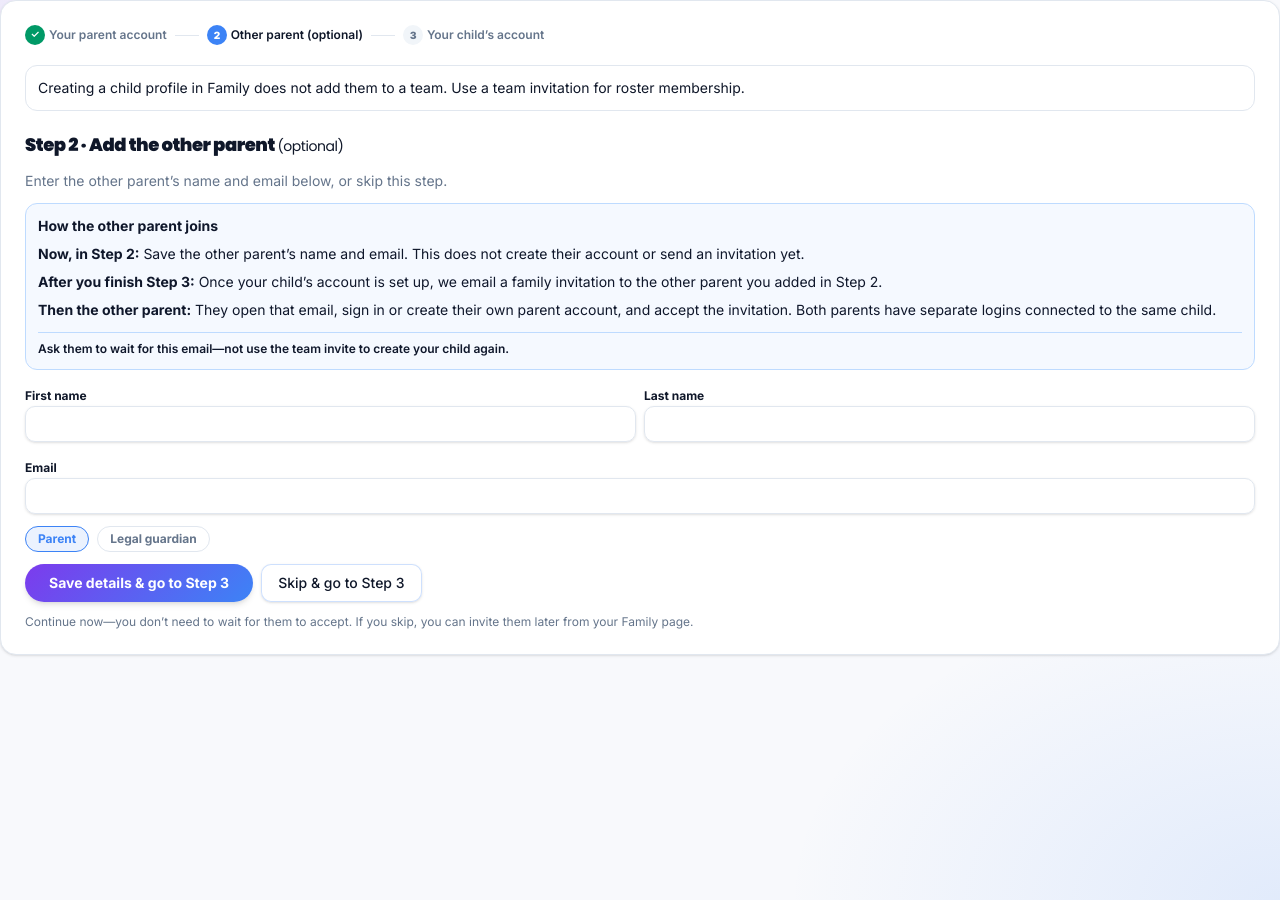
FamilySetup › blocks selecting a child if the adult session is no longer verified
Click the button with test id "btn-coparent-skip". click: (341, 583)
box: [261,564,422,602]
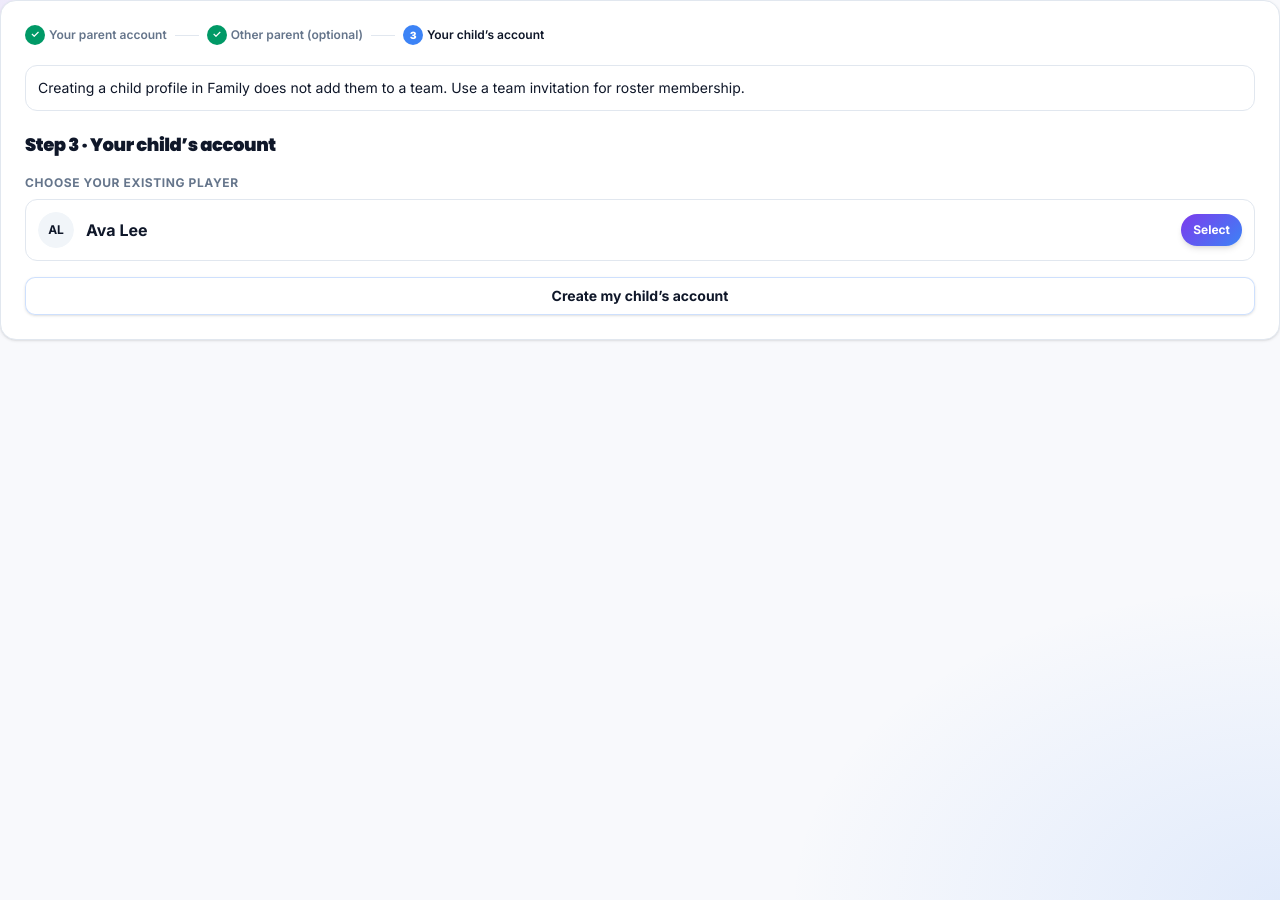
Click the button with test id "btn-select-child-existing". click: (1212, 230)
box: [1181,214,1242,246]
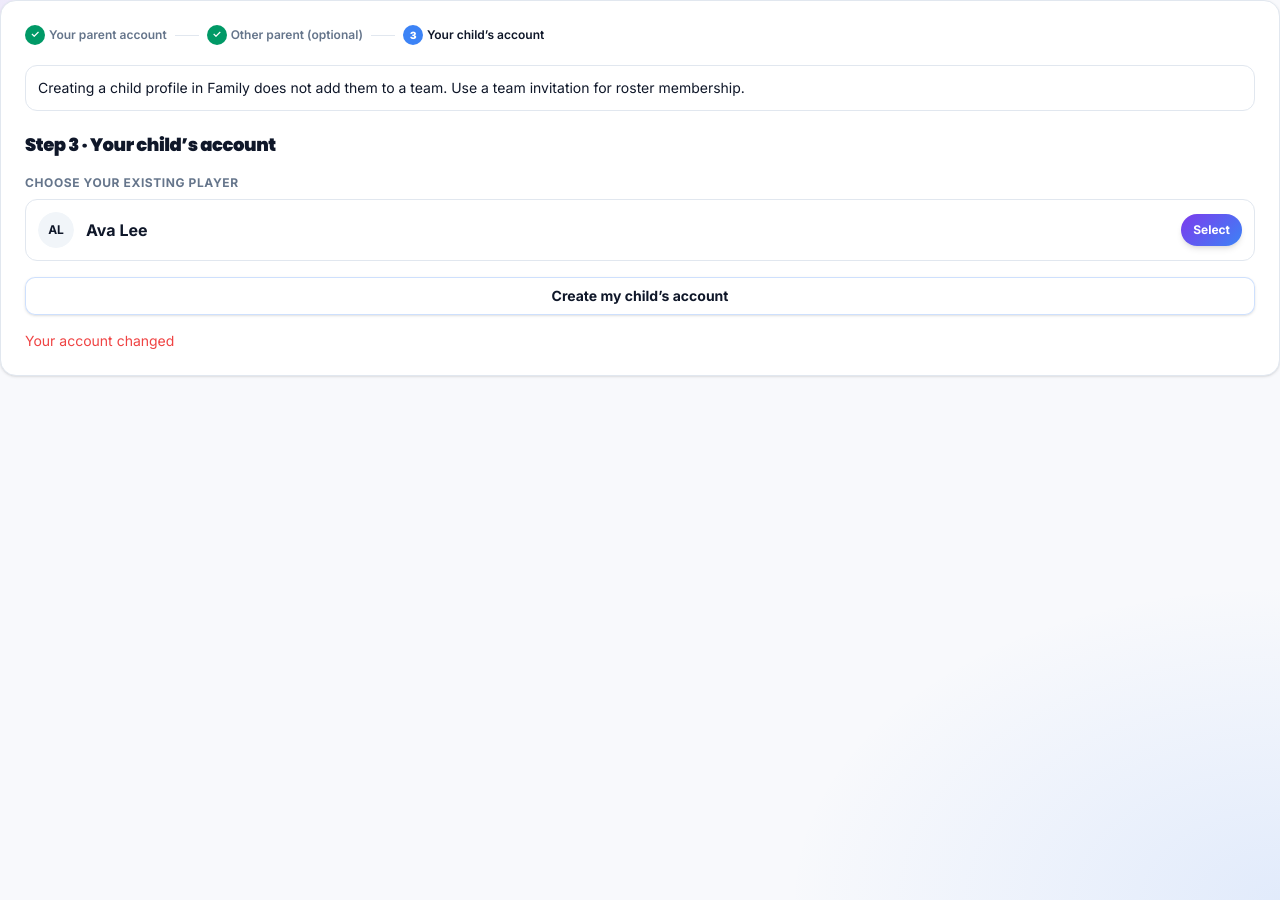
Now the text "Your account changed" is shown, box [25,332,174,349]
